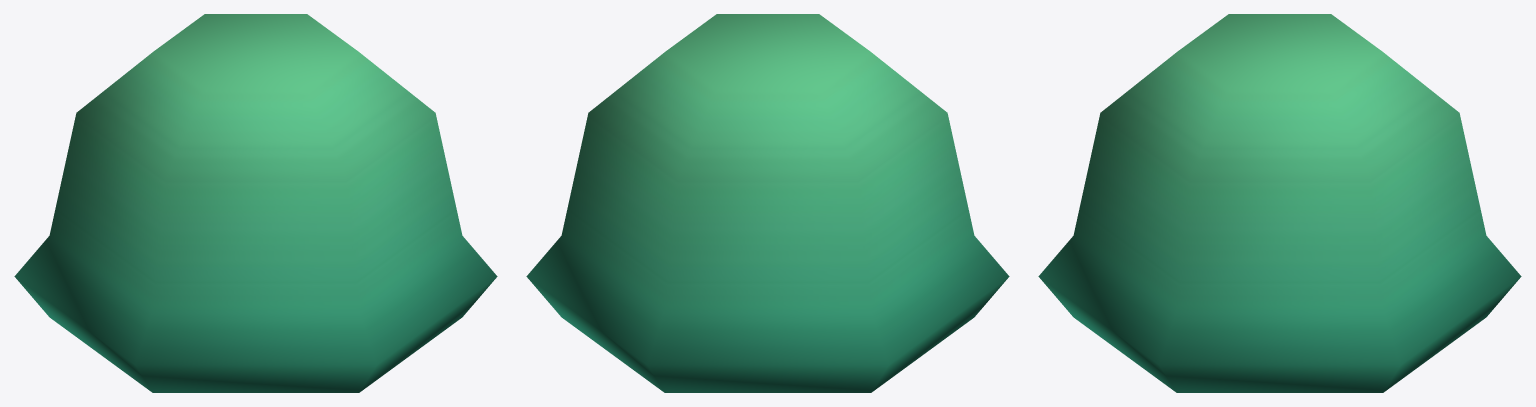
The model's file is kenney-food-ice-cream-scoop-mint.glb.
3 renders of one model, left to right at view 1: azimuth 30°, elevation 25°; view 2: azimuth 150°, elevation 25°; view 3: azimuth 270°, elevation 25°, orthographic.
Parts seen in each view (by area): view 1: ice-cream-scoop-mint; view 2: ice-cream-scoop-mint; view 3: ice-cream-scoop-mint.
Boxes of the visible parts, <box> form: ice-cream-scoop-mint: <box>14,14,497,392</box>; ice-cream-scoop-mint: <box>526,14,1009,392</box>; ice-cream-scoop-mint: <box>1038,14,1521,392</box>.
Size of the model in its own units: 0.2353 by 0.165 by 0.2716.
Materials: 1 (1 with a texture image).
